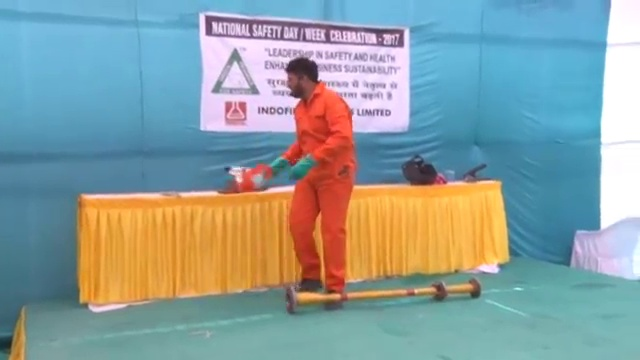helmet_off: (286, 58, 319, 97)
person: (261, 56, 356, 309)
